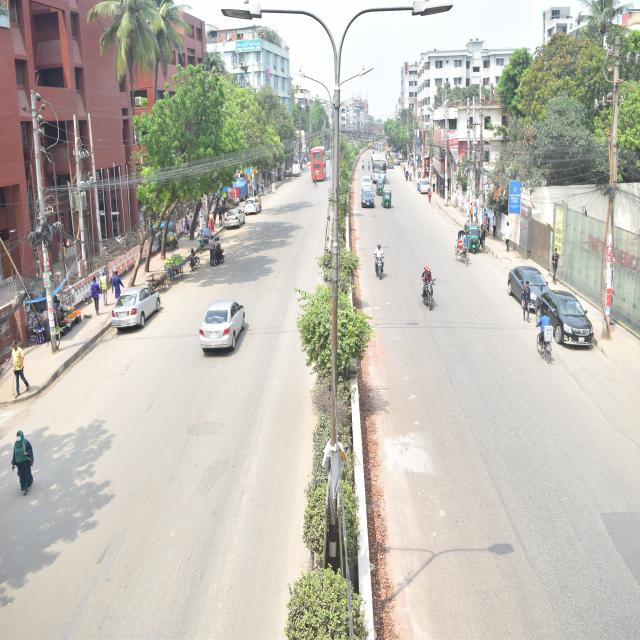bus: (302, 139, 339, 198), (366, 150, 390, 186)
car: (191, 292, 284, 393), (529, 280, 611, 366), (89, 266, 170, 348), (502, 250, 558, 314), (218, 205, 264, 242), (239, 192, 270, 233), (414, 173, 445, 210), (354, 181, 377, 218), (359, 172, 378, 204)
motorbike: (416, 247, 449, 336), (202, 230, 234, 276), (180, 240, 201, 282), (369, 238, 386, 289), (360, 154, 366, 163)
pickup-van: (287, 157, 308, 189)
